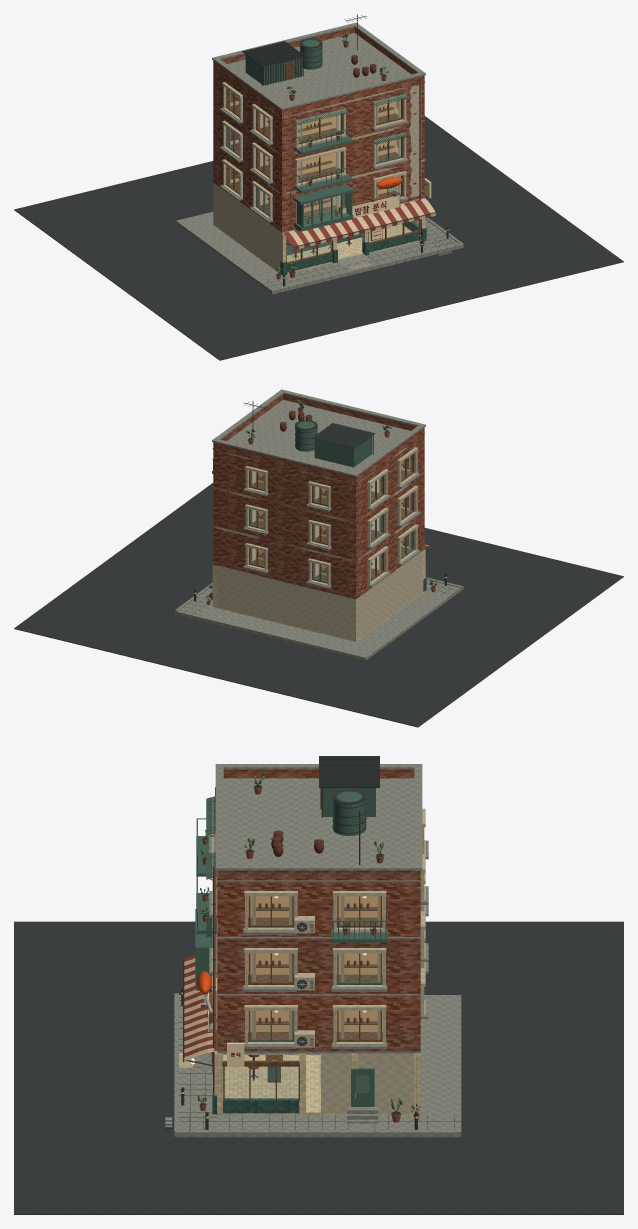
The model's file is patchwork-pocha.glb.
3 views of the same model, one above another, from view 1: azimuth 30°, elevation 25°; view 2: azimuth 150°, elevation 25°; view 3: azimuth 270°, elevation 25° (orthographic). The views are drawn at different scales.
Parts seen in each view (by area): view 1: Street asphalt, Architecture brick, Architecture stone, Street stone, Glass glass, Windows plaster, Windows jade-paint, Shop plaster, Architecture plaster, Interiors wood, Shop ivory, Interiors room-wall (+11 smaller); view 2: Street asphalt, Architecture brick, Shop plaster, Architecture stone, Street stone, Windows plaster, Glass glass, Architecture plaster, Architecture jade-paint, Windows wood, Windows stone, Architecture iron (+5 smaller); view 3: Street asphalt, Architecture brick, Architecture stone, Street stone, Glass glass, Windows plaster, Shop ivory, Shop plaster, Interiors room-wall, Windows jade-paint, Interiors wood, Windows stone (+15 smaller).
Part boxes in pixels (x1,y1,x2,y2): Street asphalt: (14,116,623,360); Architecture brick: (213,27,424,232); Architecture stone: (212,22,425,198); Street stone: (176,212,463,294); Glass glass: (228,90,418,261); Windows plaster: (222,82,406,222); Windows jade-paint: (226,93,408,231); Shop plaster: (213,183,282,270); Architecture plaster: (213,67,424,233); Interiors wood: (228,98,400,243); Shop ivory: (213,218,425,274); Interiors room-wall: (238,97,400,212); Street asphalt: (14,483,623,727); Architecture brick: (213,394,424,599); Shop plaster: (213,551,424,641); Architecture stone: (212,389,425,564); Street stone: (175,577,463,660); Windows plaster: (245,447,418,586); Glass glass: (251,455,412,581); Architecture plaster: (213,447,424,600); Architecture jade-paint: (314,426,371,467); Windows wood: (249,453,414,581); Windows stone: (243,473,420,588); Architecture iron: (312,423,375,454); Street asphalt: (14,921,623,1214); Architecture brick: (216,769,420,1051); Architecture stone: (215,764,422,1053); Street stone: (174,993,461,1137); Glass glass: (225,896,380,1098); Windows plaster: (212,797,425,1045); Shop ivory: (214,1051,420,1115); Shop plaster: (321,1053,413,1113); Interiors room-wall: (248,896,382,1031); Windows jade-paint: (195,796,387,1041); Interiors wood: (248,907,382,1060); Windows stone: (209,835,428,1048).
Bounding box in the file's own units: 34 × 16 × 30.
Materials: 26 (7 with a texture image).
